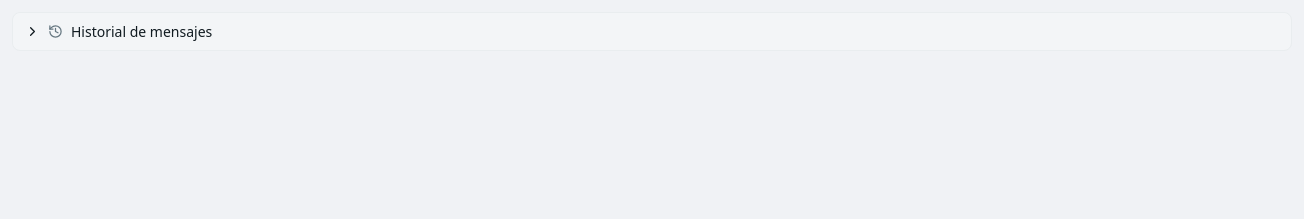
Scenario: HistorySection › muestra el motivo de detención en español
Click the button "Historial de mensajes": [142, 32] box 13,13 -> 1291,50
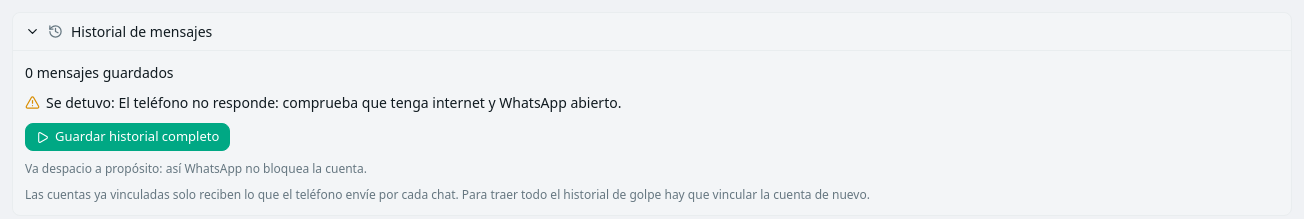
Expected: the message with test id "history-stopped" shows "Se detuvo: El teléfono no responde: comprueba que tenga internet y WhatsApp abierto.", 25,93 -> 621,112
